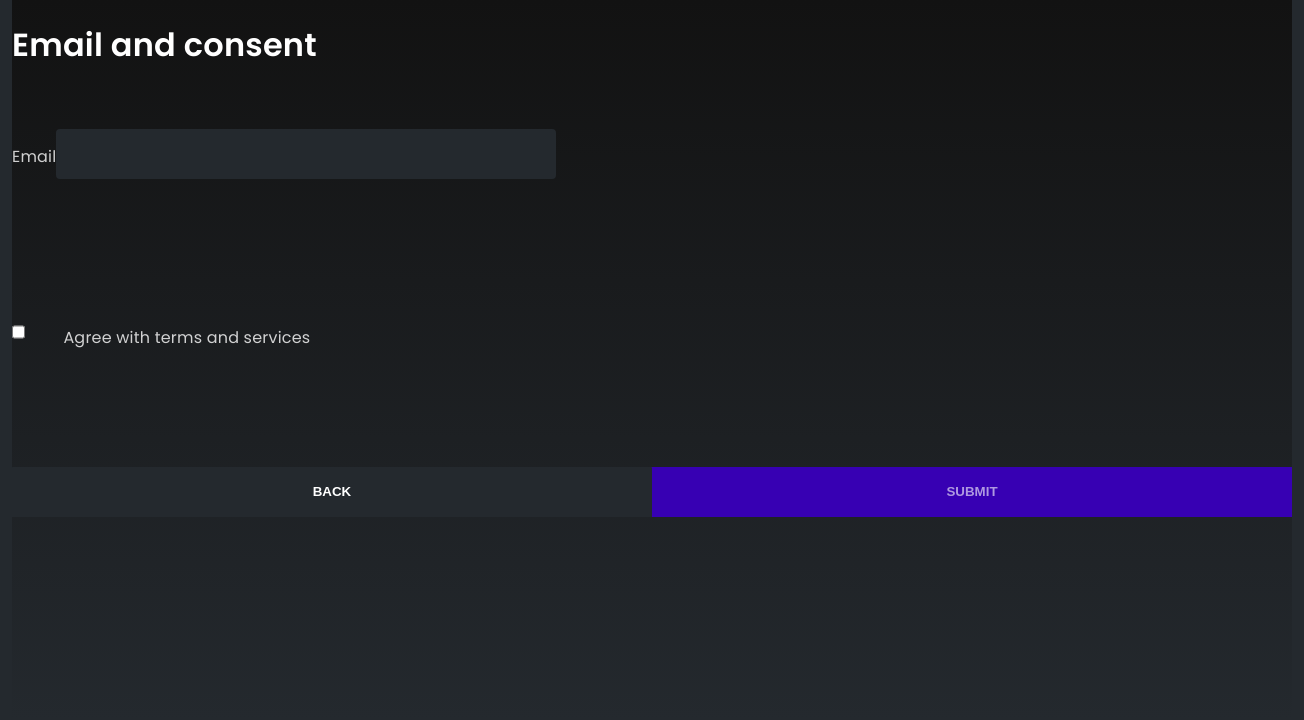
rendering › form is valid › should enable "submit" button if all fields have been filled out
Expected: the button "submit" is disabled, [652, 467, 1292, 517]
Type "test@email.com" into the field labelled "Email".
click(306, 154); type("test@email.com")  # box [56, 129, 556, 179]
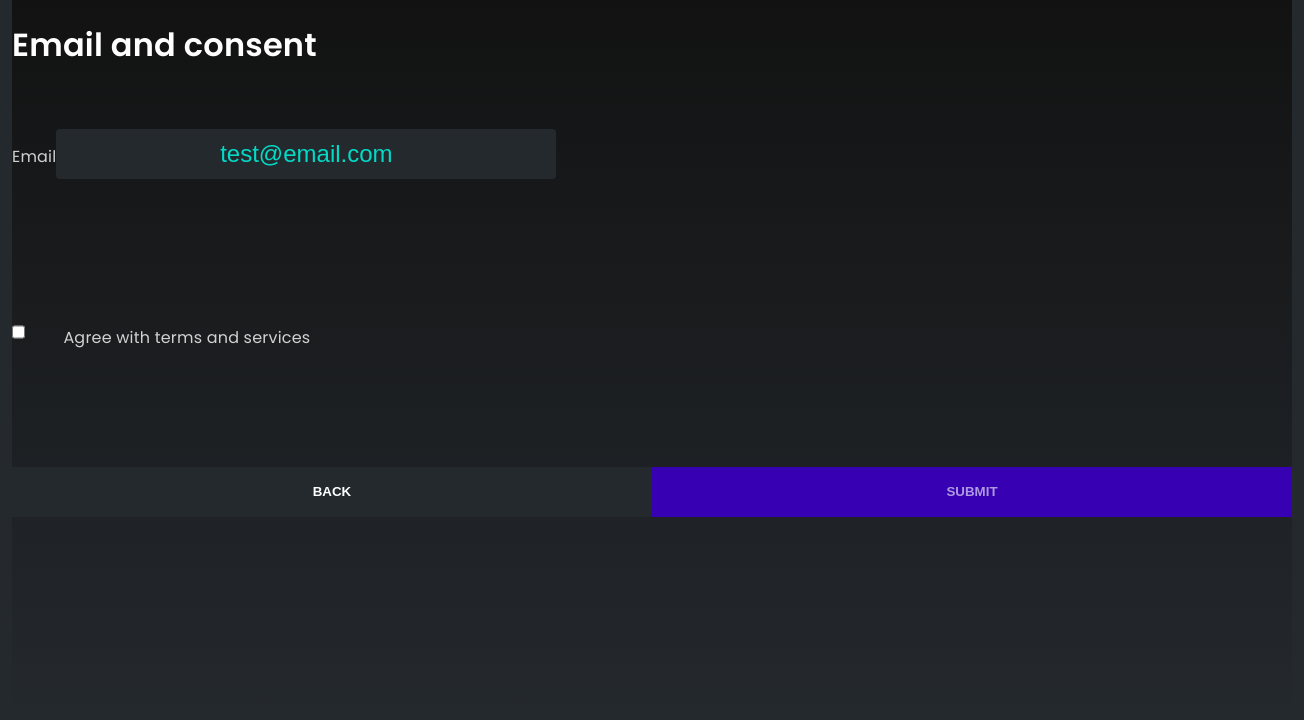
Click the checkbox labelled "Agree with terms and services".
click(18, 332)  # box [12, 307, 25, 357]
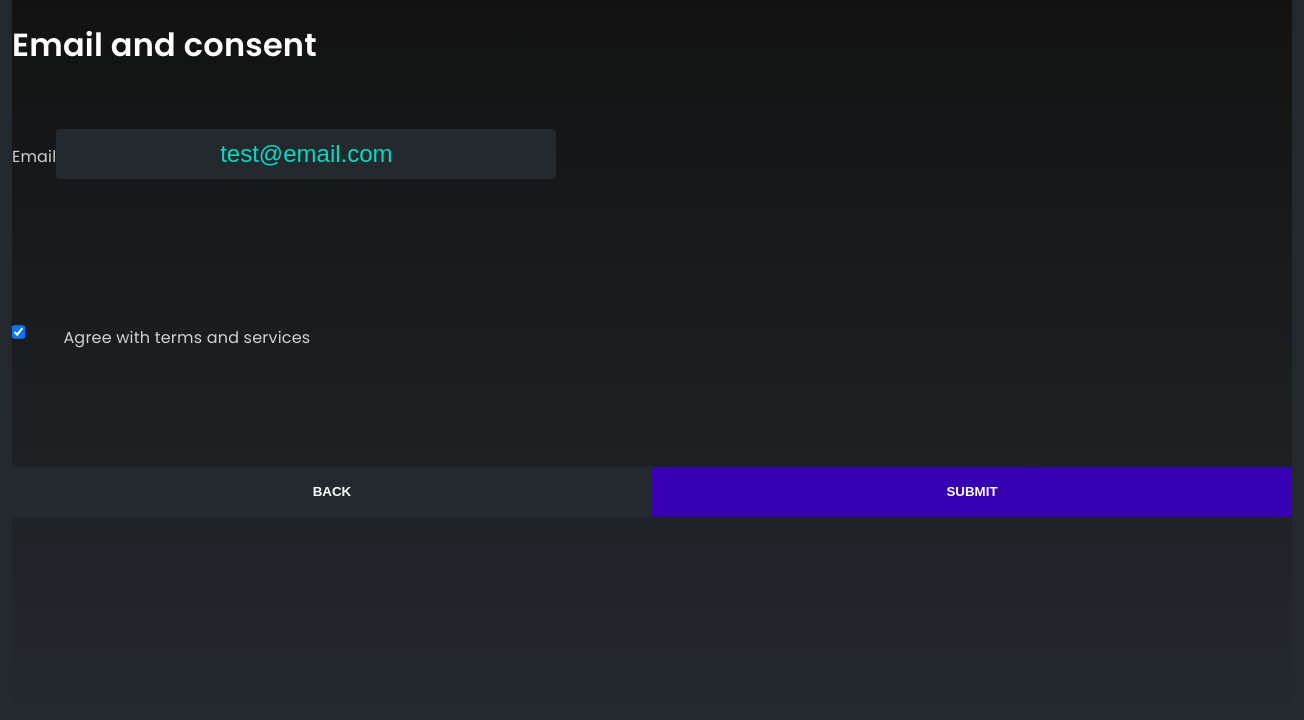
Result: the button "submit" is enabled at [652, 467, 1292, 517]
